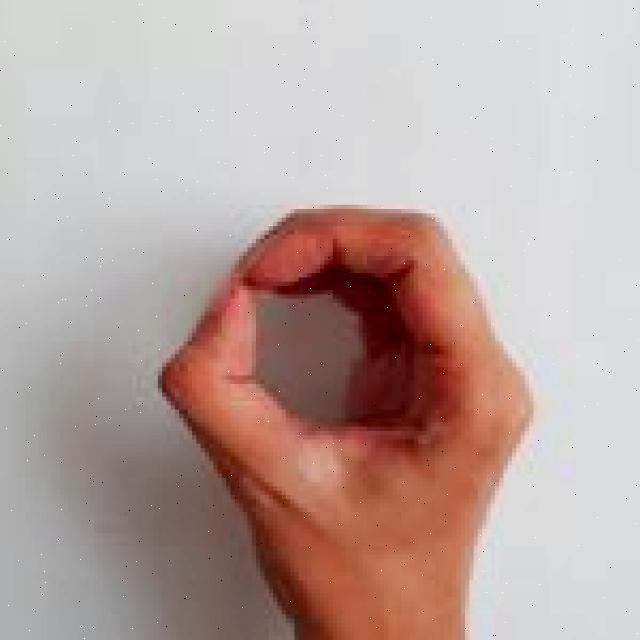O: (151, 197, 541, 640)
